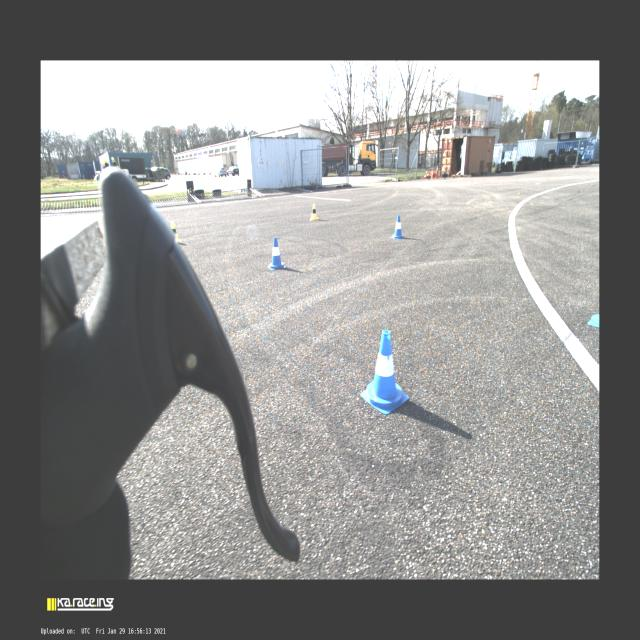blue_cone: (361, 330, 408, 414), (268, 238, 286, 270), (391, 215, 405, 239), (588, 314, 600, 328)
large_orange_cone: (431, 170, 434, 178)
orange_cone: (436, 166, 438, 170)
yellow_cone: (171, 221, 181, 243), (310, 203, 319, 220)
